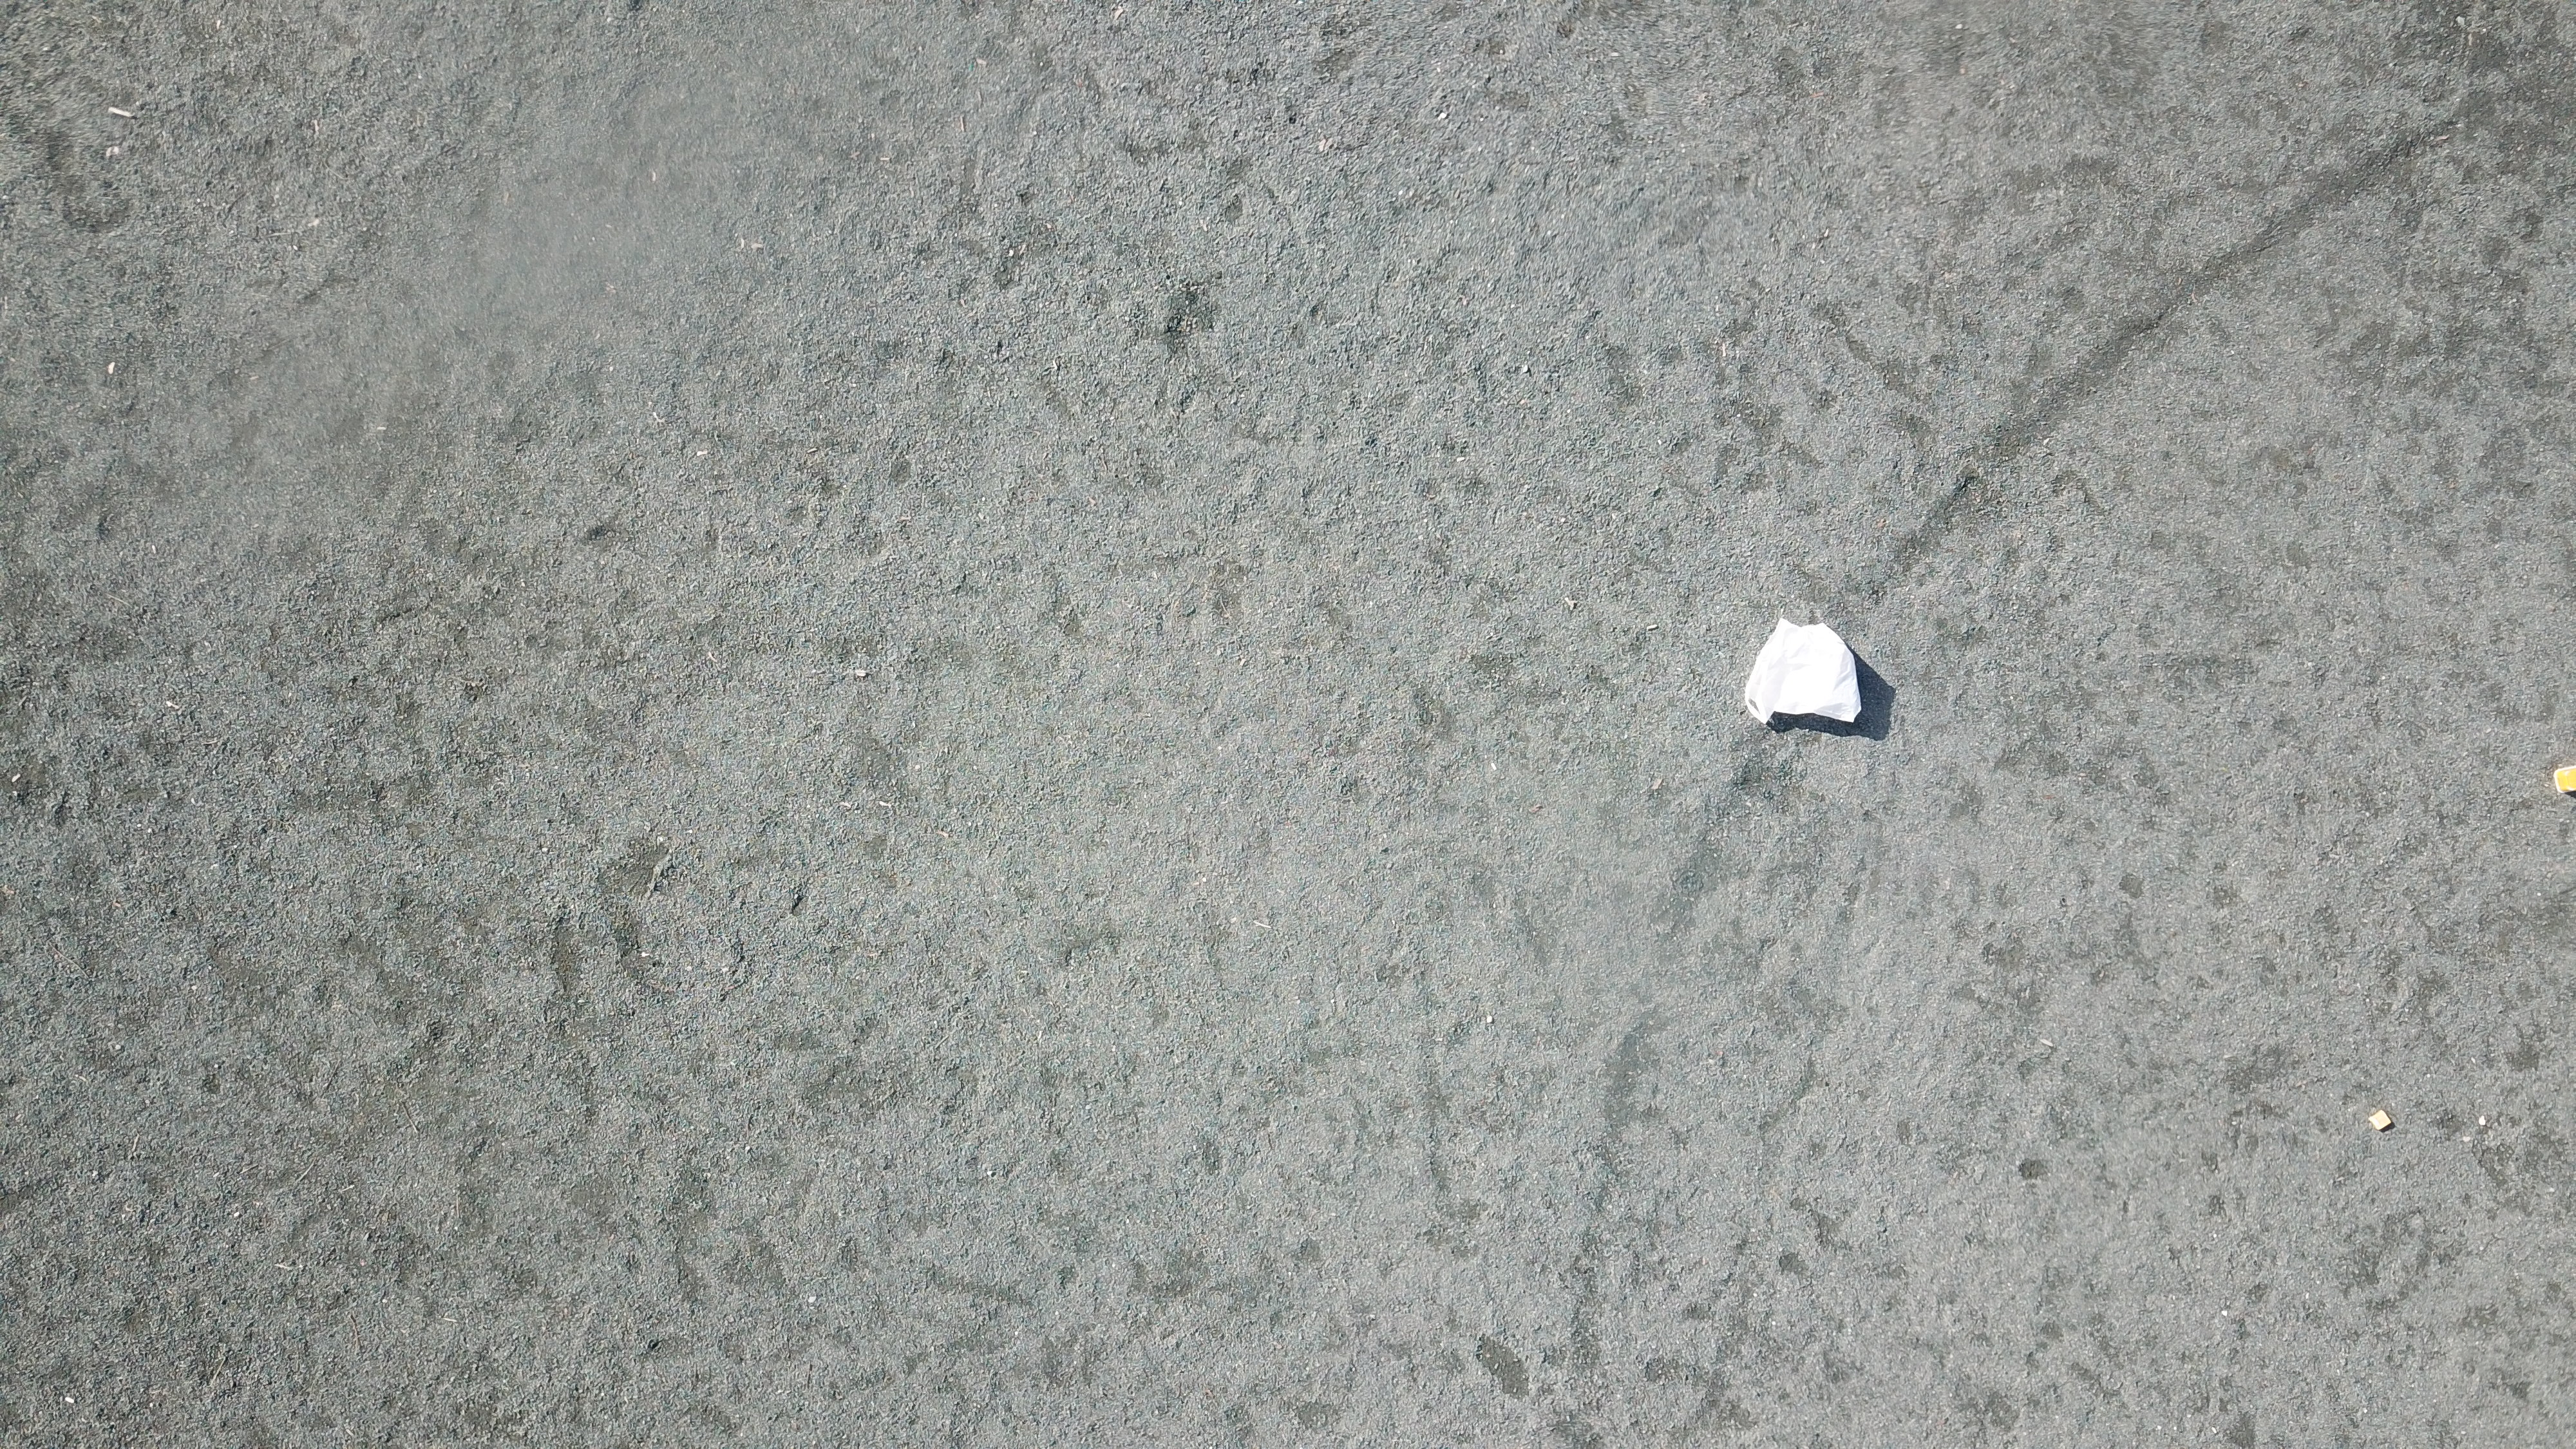Plastic: (1748, 617, 1865, 734), (2555, 766, 2576, 794), (2369, 1111, 2392, 1131)
